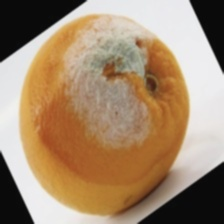orange: (38, 43, 206, 208)
